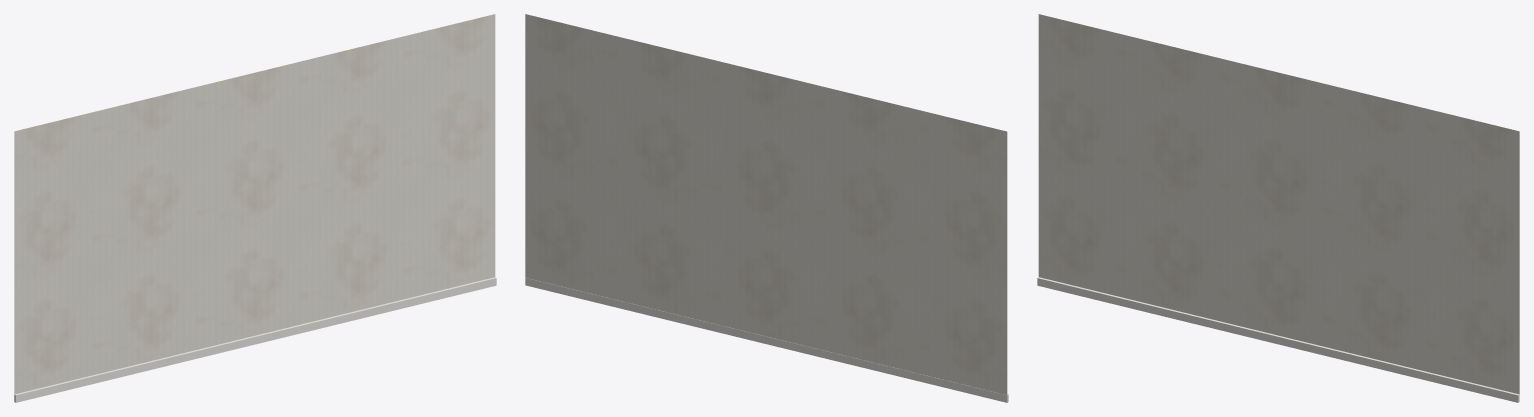
3 views of the same model, side by side, from view 1: azimuth 30°, elevation 25°; view 2: azimuth 150°, elevation 25°; view 3: azimuth 330°, elevation 25° (orthographic).
Parts seen in each view (by area): view 1: jx_wm_9_f92ed339; view 2: jx_wm_9_f92ed339; view 3: jx_wm_9_f92ed339.
Part boxes in pixels (x1,y1,x2,y2): jx_wm_9_f92ed339: (14,14,496,402); jx_wm_9_f92ed339: (525,14,1008,402); jx_wm_9_f92ed339: (1037,14,1519,402).
Size of the model in its own units: 9.3 by 5 by 0.05.
2 materials, 2 textured.
